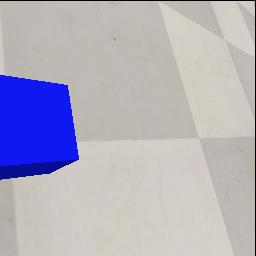box: (0, 74, 79, 180)
